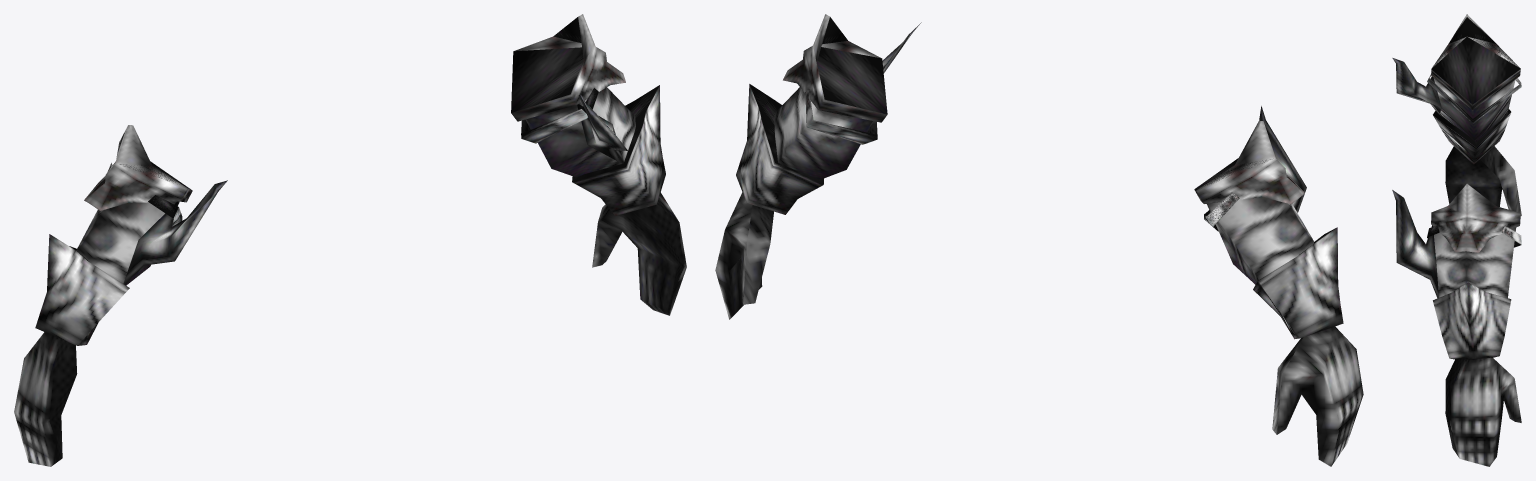
Rendered from 0_kn_gloves_16.obj.
3 renders of one model, left to right at view 1: azimuth 30°, elevation 25°; view 2: azimuth 150°, elevation 25°; view 3: azimuth 270°, elevation 25°, orthographic. The views are drawn at different scales.
Parts seen in each view (by area): view 1: defaultobject; view 2: defaultobject; view 3: defaultobject.
Part boxes in pixels (x1=…): defaultobject: x1=14, y1=14, x2=686, y2=466; defaultobject: x1=715, y1=14, x2=1363, y2=466; defaultobject: x1=1392, y1=14, x2=1521, y2=466.
Size of the model in its own units: 33.28 by 16.09 by 7.54.
1 material, 1 textured.
